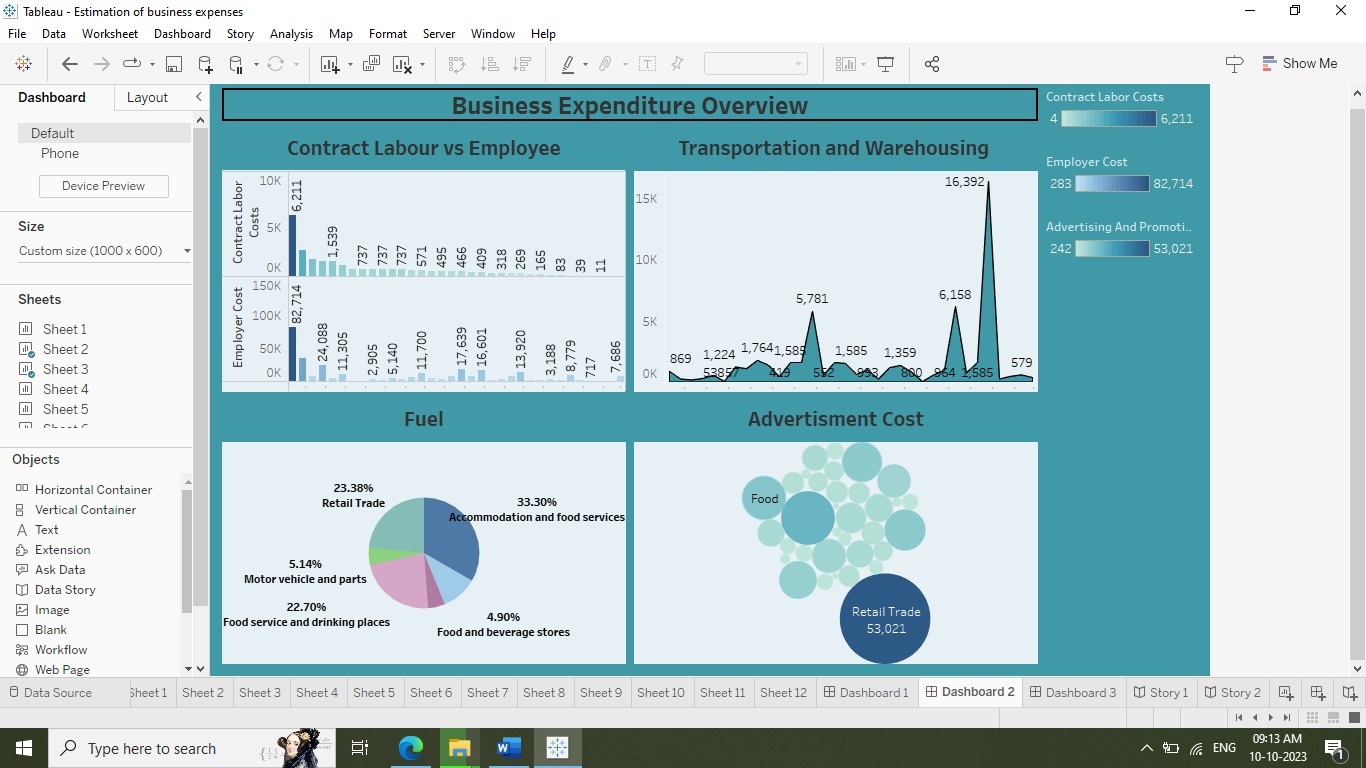

The dashboard page shown, as its layout file describes it:
{"tool":"tableau","page":{"name":"Dashboard 2","canvas":[1000,800],"ordinal":1},"visuals":[{"type":"title","box":[8,8,824,41]},{"type":"legend","title":"Sheet 3","param":"[federated.1aluf8y0ho0fgg1bqzy6j0fe9r3e].[sum:contract_labor_costs:qk]","box":[832,8,160,65]},{"type":"worksheet","title":"Sheet 3","mark":"Automatic","rows":["contract_labor_costs","employer_cost"],"cols":["Business_types"],"box":[8,49,412,371.5]},{"type":"worksheet","title":"Sheet 12","mark":"Area","rows":["transportation_shipping_warehousing"],"cols":["Business_types"],"box":[420,49,412,371.5]},{"type":"legend","title":"Sheet 3","param":"[federated.1aluf8y0ho0fgg1bqzy6j0fe9r3e].[sum:employer_cost:qk]","box":[832,73,160,65]},{"type":"legend","title":"Sheet 2","param":"[federated.1aluf8y0ho0fgg1bqzy6j0fe9r3e].[sum:advertising_and_promotional_servic","box":[832,138,160,65]},{"type":"worksheet","title":"Sheet 7","mark":"Pie","box":[8,420.5,412,371.5]},{"type":"worksheet","title":"Sheet 2","mark":"Circle","box":[420,420.5,412,371.5]}]}

Visuals, with their boxes on the page's 1000x800 design canvas (x1, y1, x2, y2). These are canvas units, not pixel positions in the 1366x768 screenshot, which may show the page scaled, cropped or inside an application window:
title: region(8, 8, 832, 49)
"Sheet 3" legend: region(832, 8, 992, 73)
"Sheet 3" worksheet: region(8, 49, 420, 420)
"Sheet 12" worksheet (Area marks): region(420, 49, 832, 420)
"Sheet 3" legend: region(832, 73, 992, 138)
"Sheet 2" legend: region(832, 138, 992, 203)
"Sheet 7" worksheet (Pie marks): region(8, 420, 420, 792)
"Sheet 2" worksheet (Circle marks): region(420, 420, 832, 792)
